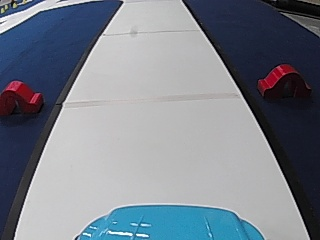bridge: (253, 61, 311, 99), (0, 78, 45, 117)
